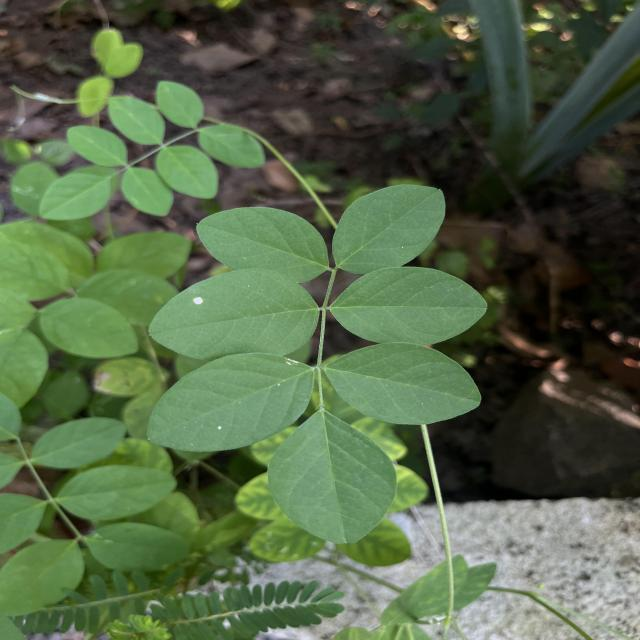Clitoria ternatea: (265, 408, 398, 546), (146, 352, 318, 454), (146, 267, 322, 364), (323, 341, 484, 426), (328, 264, 490, 348), (330, 183, 448, 277), (195, 205, 331, 284)
